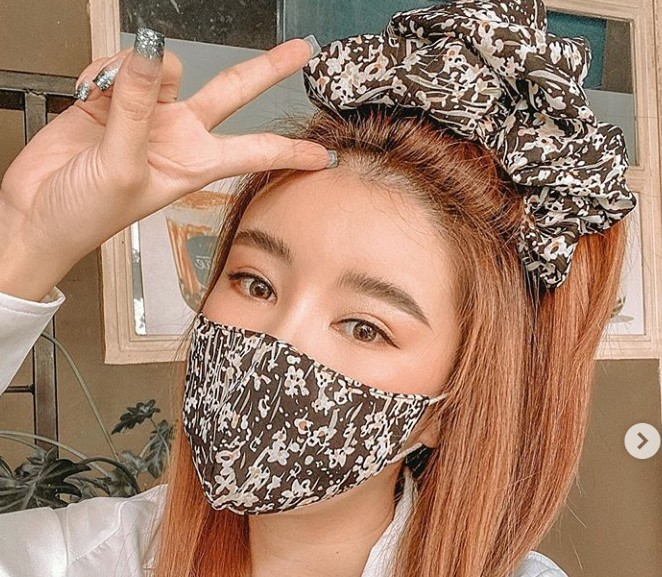face_with_mask: (182, 124, 525, 521)
